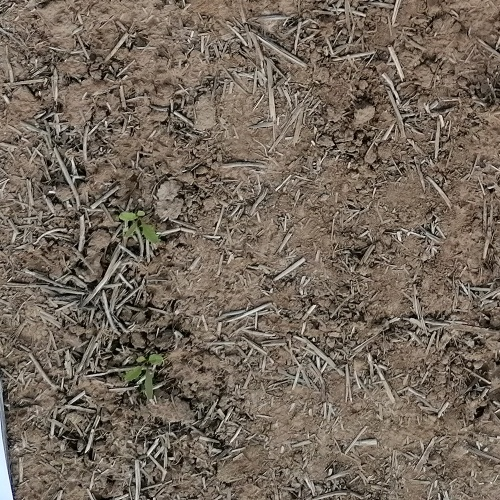beet: (124, 354, 164, 399), (118, 211, 161, 245)
